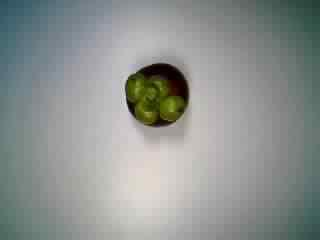mangosteen: (118, 59, 192, 131)
